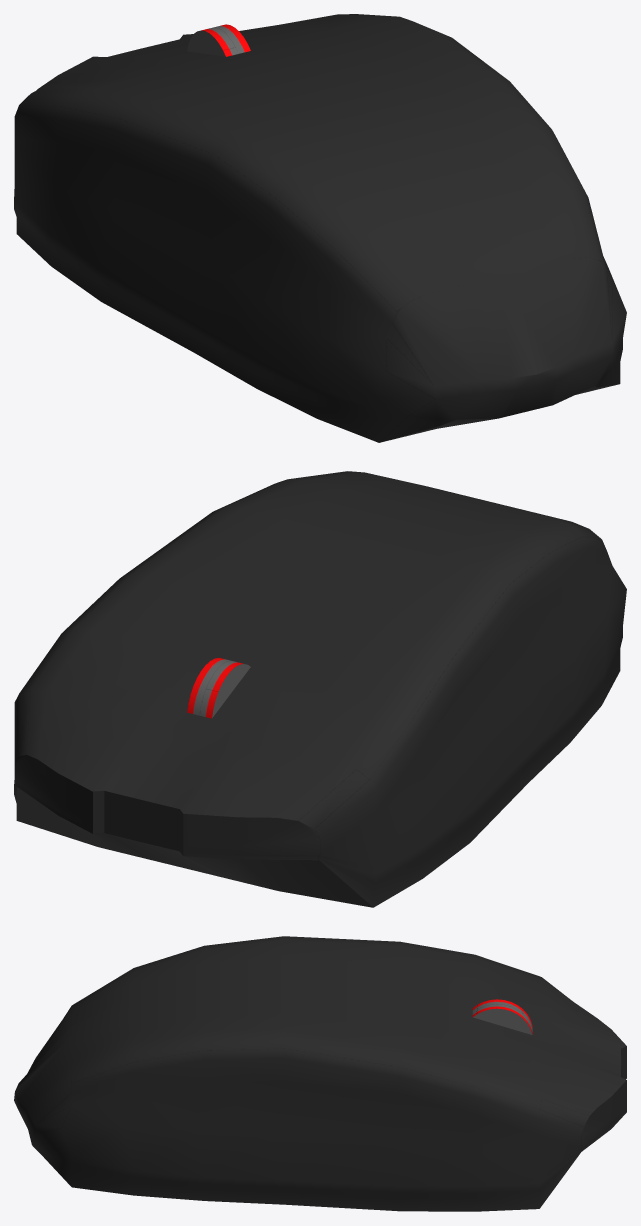
Rendered from PCMouse.fbx.
The picture shows the model from 3 angles, top to bottom: view 1: azimuth 30°, elevation 25°; view 2: azimuth 150°, elevation 25°; view 3: azimuth 270°, elevation 25°; orthographic projection. The views are drawn at different scales.
Visible parts, largest first — view 1: PCMouseMerged; view 2: PCMouseMerged; view 3: PCMouseMerged.
Boxes of the visible parts, x1,y1,x2,y2 form: PCMouseMerged: (14, 14, 626, 442); PCMouseMerged: (14, 471, 626, 907); PCMouseMerged: (14, 936, 626, 1211).
Size of what is drawn, in the model's own units: 5.18 by 2.69 by 9.5.
